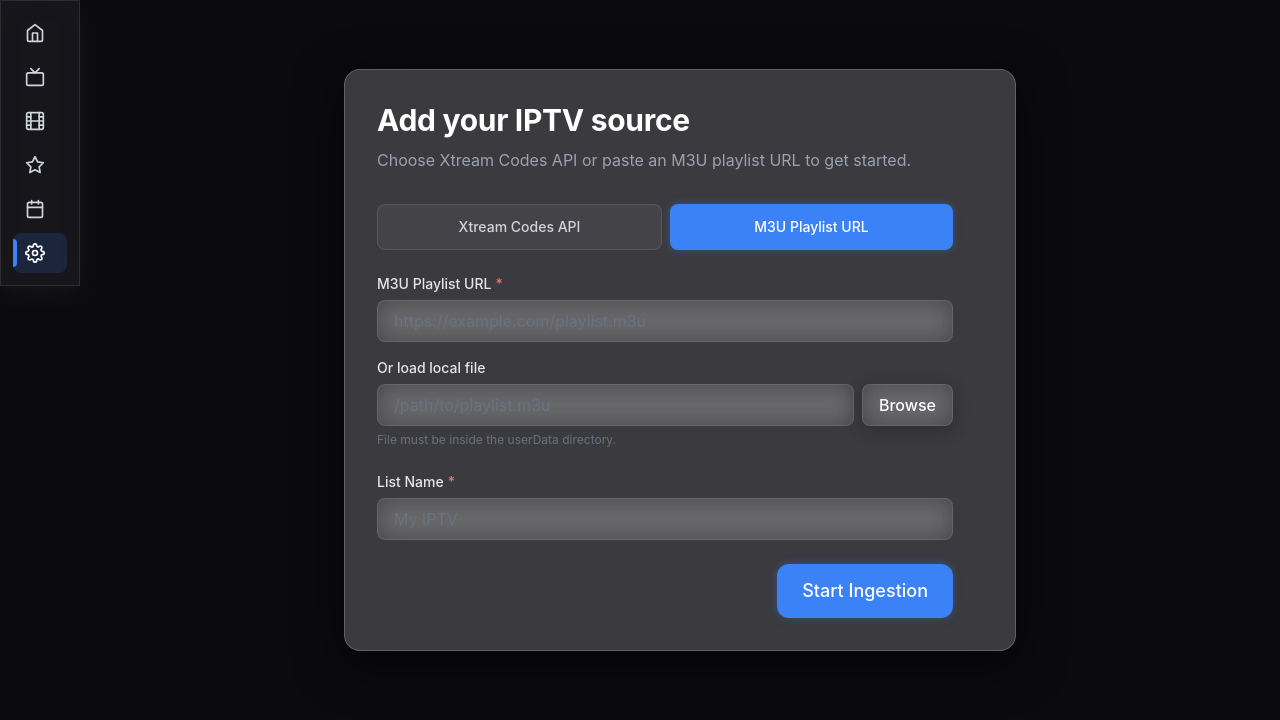
Test case: IngestPage › shows overlay once ingestion starts
Type "https://example.com/p.m3u" into the field with id "cf-url" at point(665, 321), box left=377, top=300, right=953, bottom=342
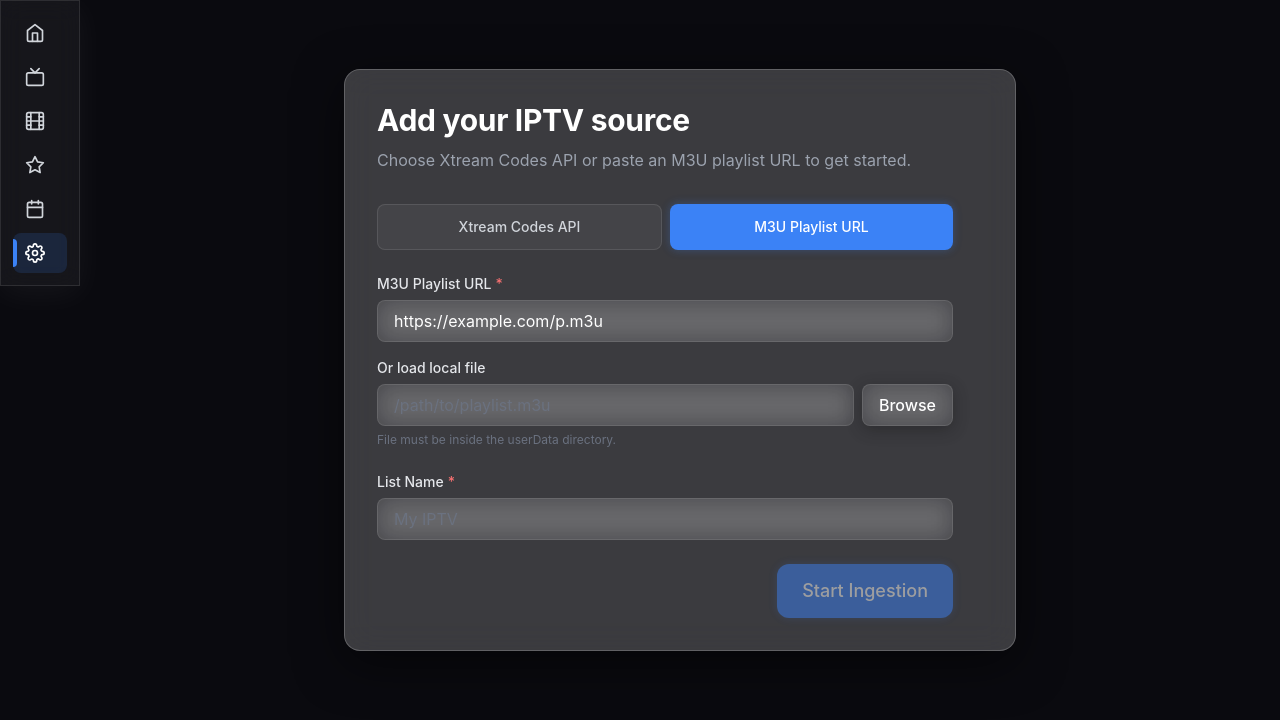
Type "L" into the field with id "cf-listname" at point(665, 519), box left=377, top=498, right=953, bottom=540
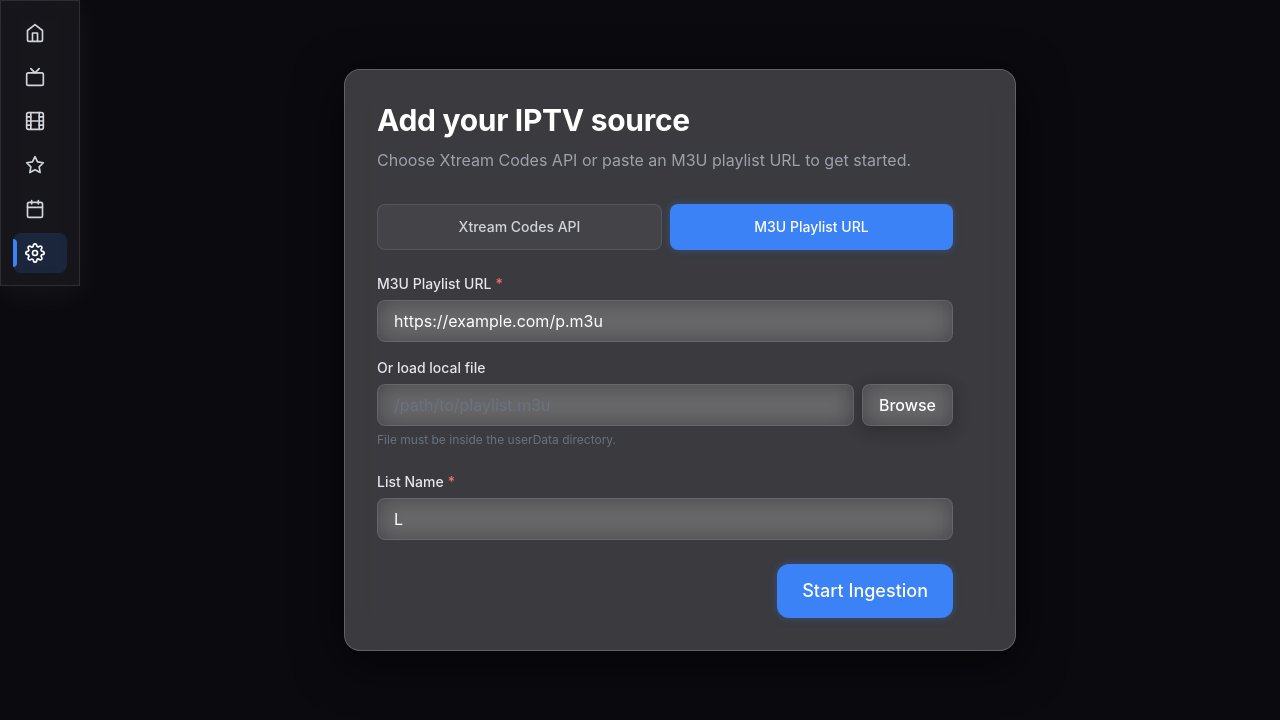
Click the button "Start Ingestion" at point(865, 591), box left=777, top=564, right=953, bottom=618
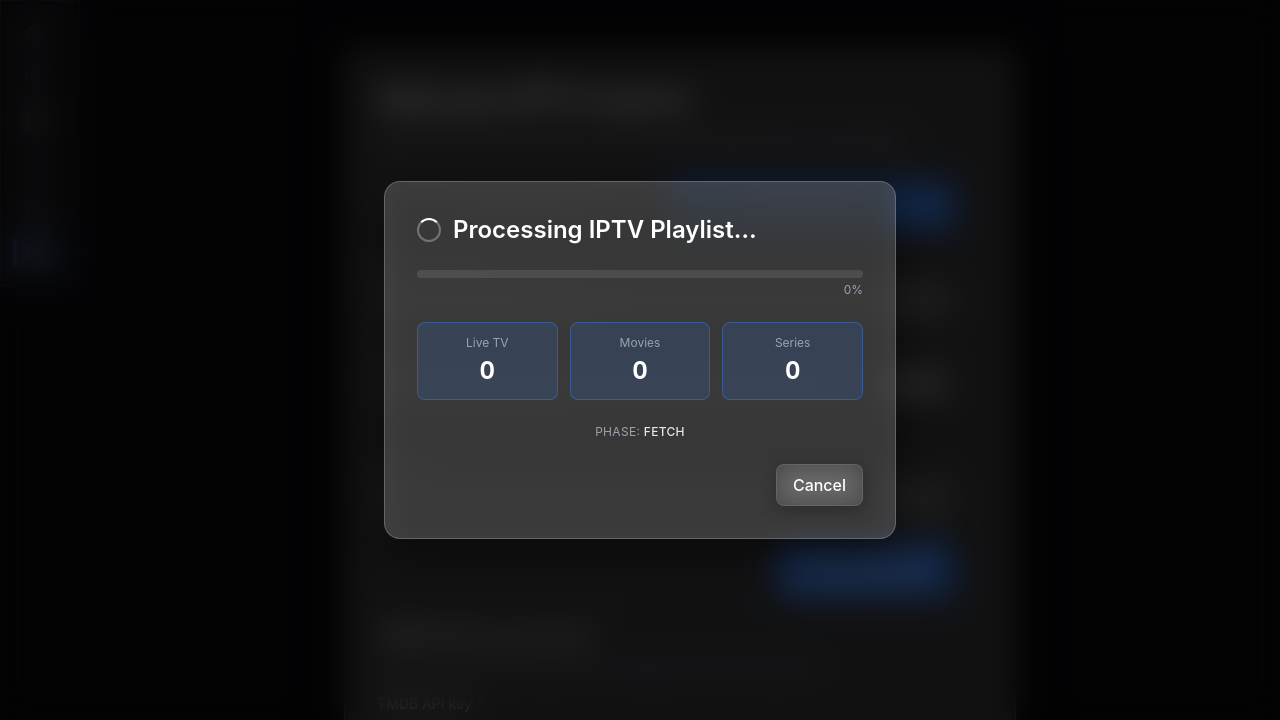
Result: the dialog named "Ingestion progress" is shown
